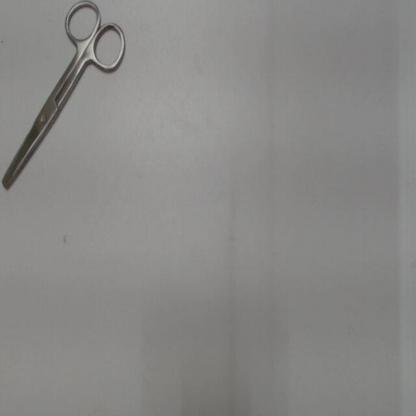Dressing Scissors: (0, 0, 132, 205)
